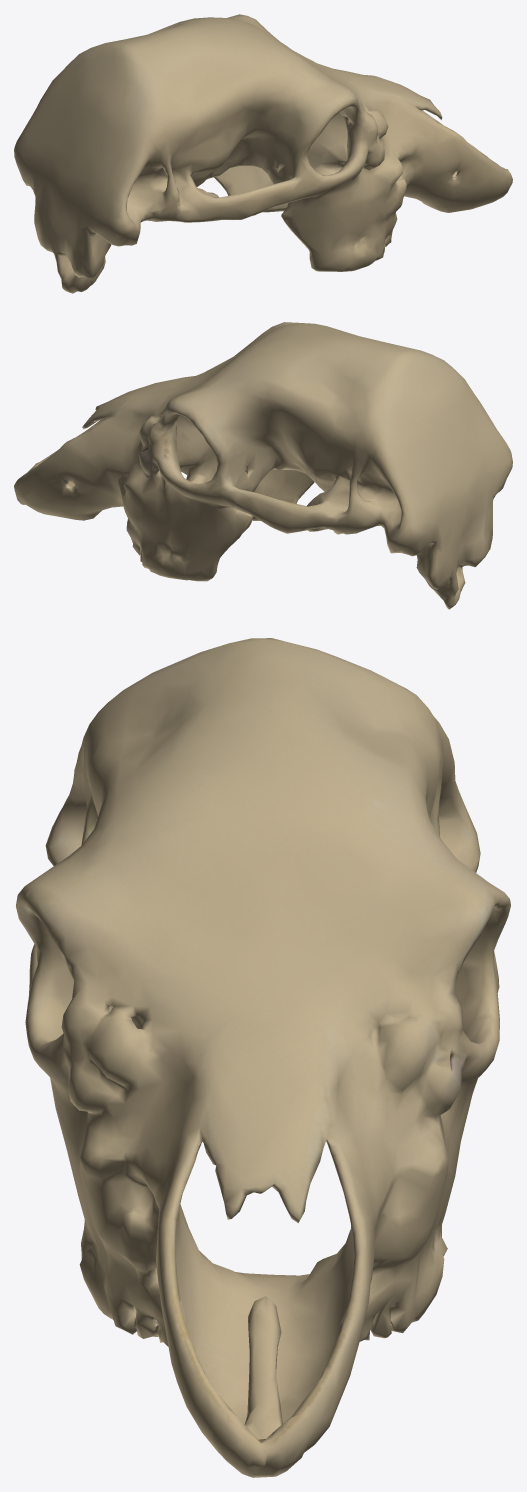
File: calavera.glb
The picture shows the model from 3 angles, top to bottom: view 1: azimuth 30°, elevation 25°; view 2: azimuth 150°, elevation 25°; view 3: azimuth 270°, elevation 25°; orthographic projection. The views are drawn at different scales.
Visible parts, largest first — view 1: temp_mesh.ply; view 2: temp_mesh.ply; view 3: temp_mesh.ply.
Part boxes in pixels (<box>): temp_mesh.ply: <box>14,14,512,293</box>; temp_mesh.ply: <box>14,322,512,609</box>; temp_mesh.ply: <box>16,638,510,1477</box>.
Bounding box in the file's own units: 0.55 × 0.2826 × 0.2615.
Materials: 1 (1 with a texture image).
